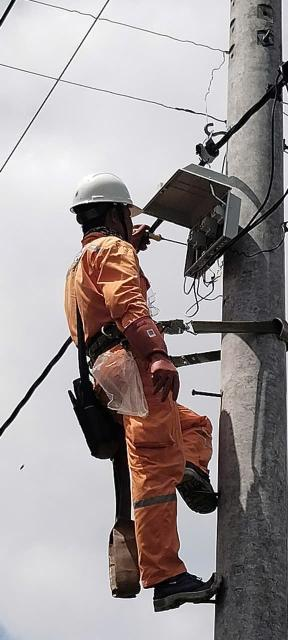gloves: (124, 312, 193, 404), (125, 225, 167, 258)
harness: (63, 318, 164, 367)
helmet: (64, 172, 153, 223)
shoes: (126, 563, 226, 613), (179, 462, 225, 522)
